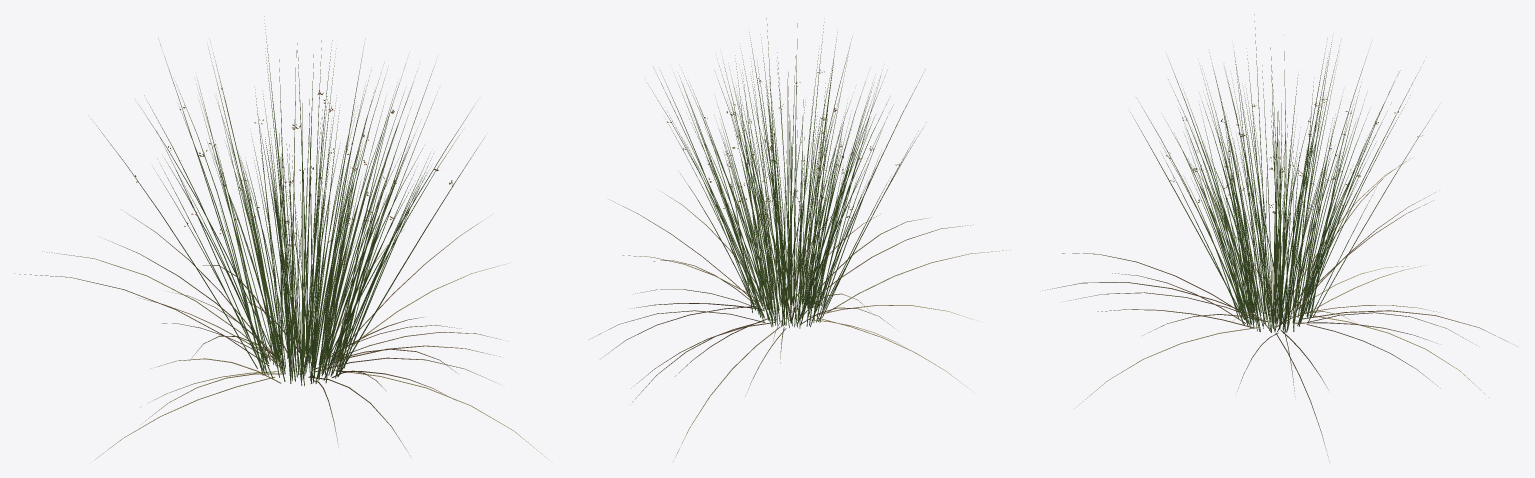
The model's file is rush_a.glb.
3 views of the same model, side by side, from view 1: azimuth 30°, elevation 25°; view 2: azimuth 150°, elevation 25°; view 3: azimuth 270°, elevation 25° (orthographic). The views are drawn at different scales.
Parts seen in each view (by area): view 1: rush_a; view 2: rush_a; view 3: rush_a.
Boxes of the visible parts, bbox=[...] form: rush_a: bbox=[14, 16, 548, 459]; rush_a: bbox=[598, 18, 1010, 461]; rush_a: bbox=[1045, 14, 1507, 460].
Size of the model in its own units: 1.38 by 1.24 by 1.61.
